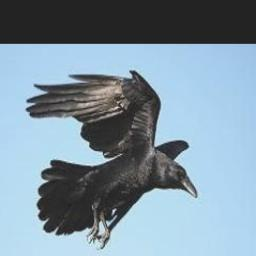Crow: (25, 68, 196, 250)
